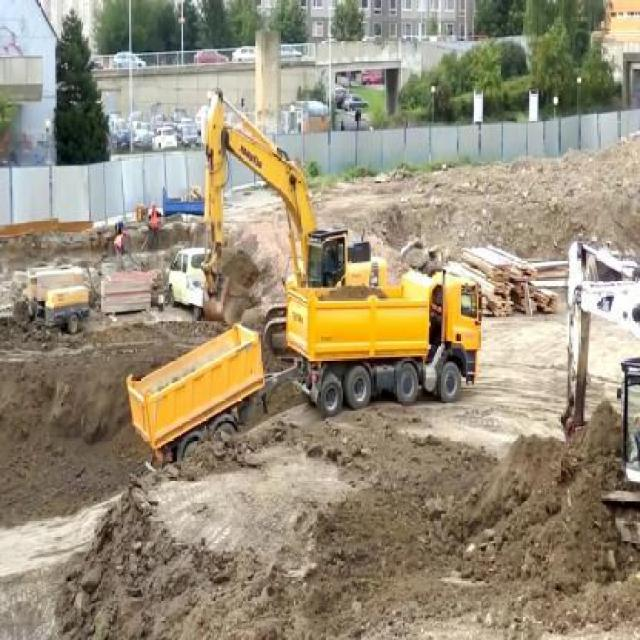Dump Truck: (115, 271, 482, 475)
Excavator: (198, 78, 393, 367), (555, 238, 640, 544)
